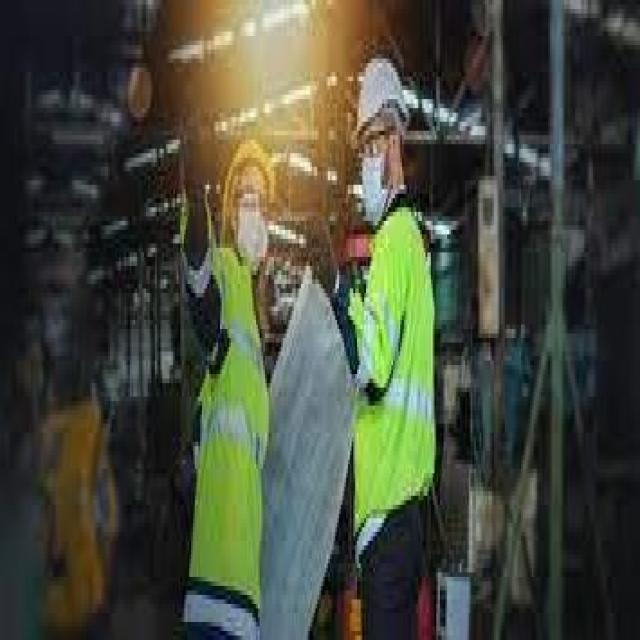Reflective-Jacket: (175, 243, 281, 631), (339, 203, 451, 568)
Safety-Helmet: (344, 36, 418, 162), (173, 176, 216, 302)
